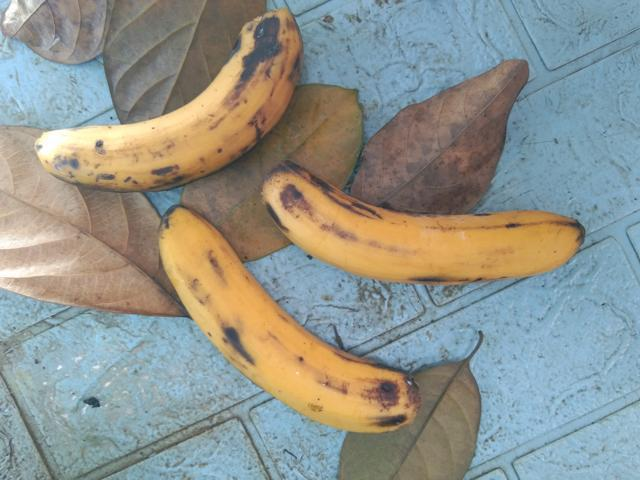overripe: (24, 4, 302, 198), (254, 156, 592, 302)
ripe: (143, 199, 428, 447)
